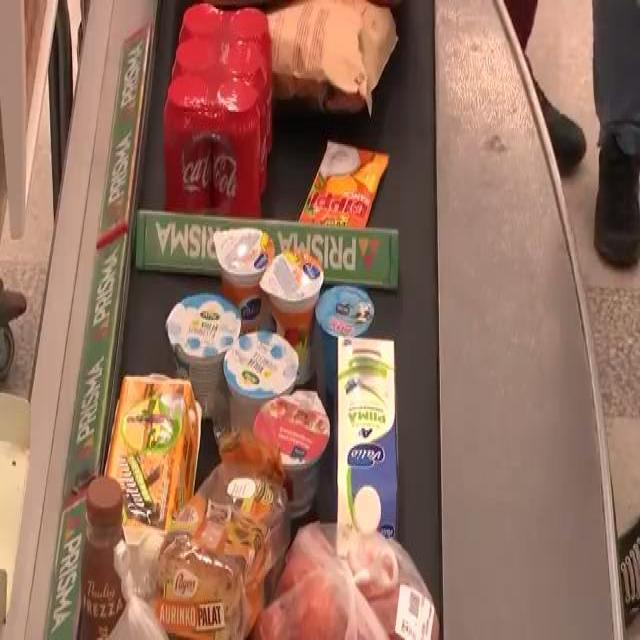beverage: (45, 444, 148, 640), (176, 12, 268, 217), (332, 332, 406, 542)
food-box: (156, 451, 303, 640), (110, 347, 204, 567), (267, 7, 403, 109), (262, 248, 330, 397), (166, 290, 240, 418), (252, 396, 334, 510), (224, 336, 304, 434), (215, 222, 278, 342), (314, 294, 384, 398), (325, 274, 326, 277)
utility-box: (296, 116, 400, 250)
vegetable: (262, 522, 441, 640)
